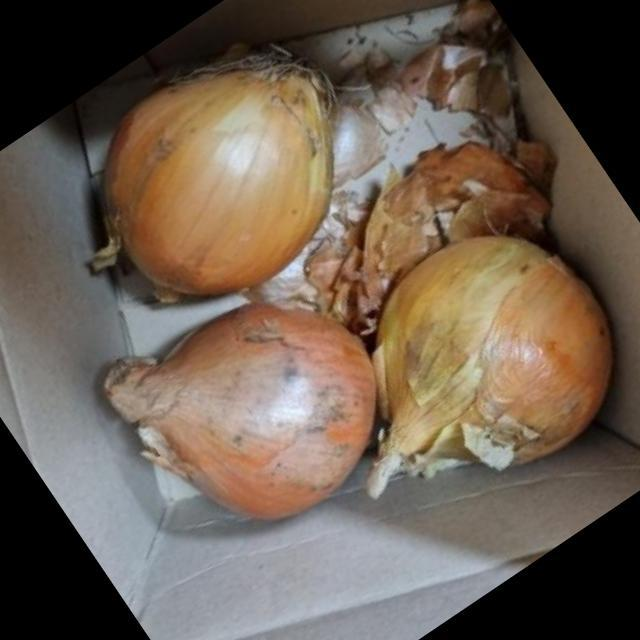Onion: (370, 239, 609, 499), (82, 67, 352, 292), (110, 306, 381, 524)
